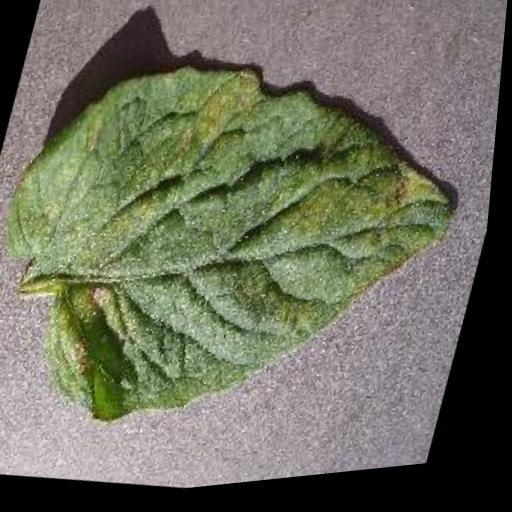Spider Mites: (0, 19, 494, 489)
